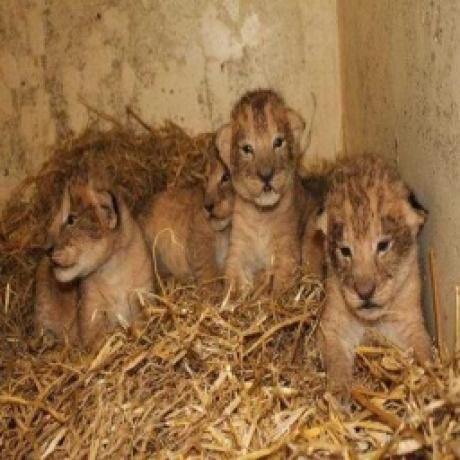Lion: (316, 156, 438, 362), (30, 179, 157, 339), (213, 88, 308, 293), (144, 153, 234, 285)
